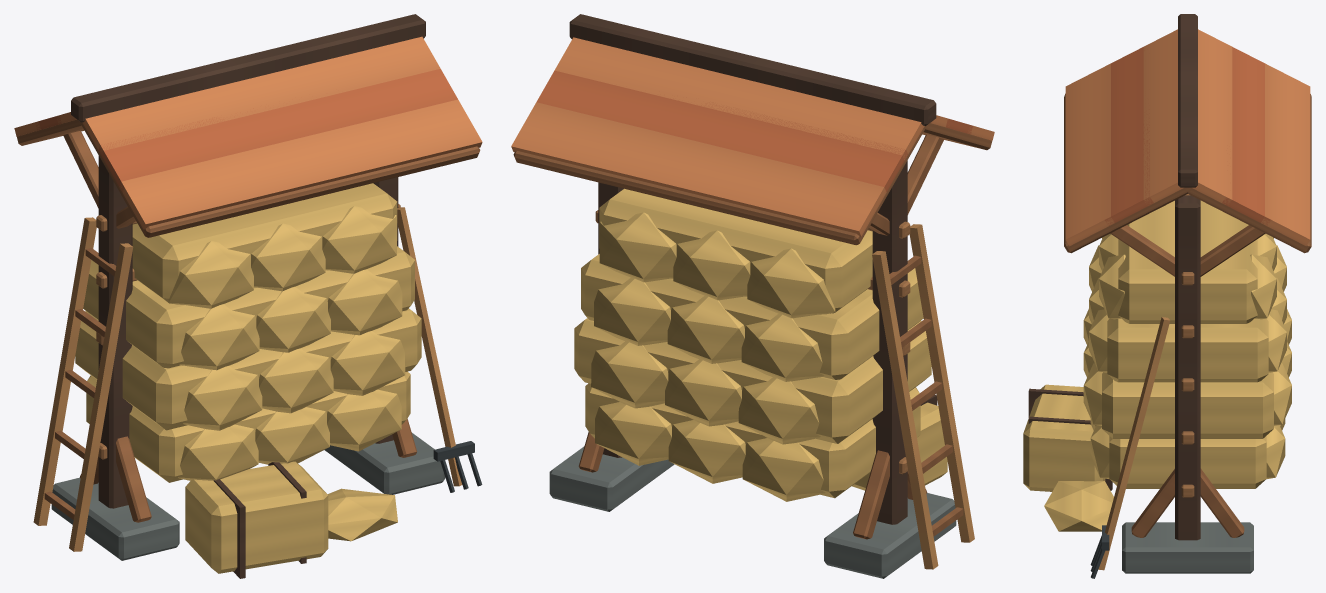
The model's file is hay_drying_rack.glb.
3 renders of one model, left to right at view 1: azimuth 30°, elevation 25°; view 2: azimuth 150°, elevation 25°; view 3: azimuth 270°, elevation 25°, orthographic. The views are drawn at different scales.
Parts seen in each view (by area): view 1: hay_drying_rack; view 2: hay_drying_rack; view 3: hay_drying_rack.
Boxes of the visible parts, x1,y1,x2,y2 form: hay_drying_rack: (14, 14, 482, 578); hay_drying_rack: (511, 14, 994, 578); hay_drying_rack: (1023, 14, 1311, 578).
Bounding box in the file's own units: 2.22 × 2.49 × 1.58.
1 material, 1 textured.
